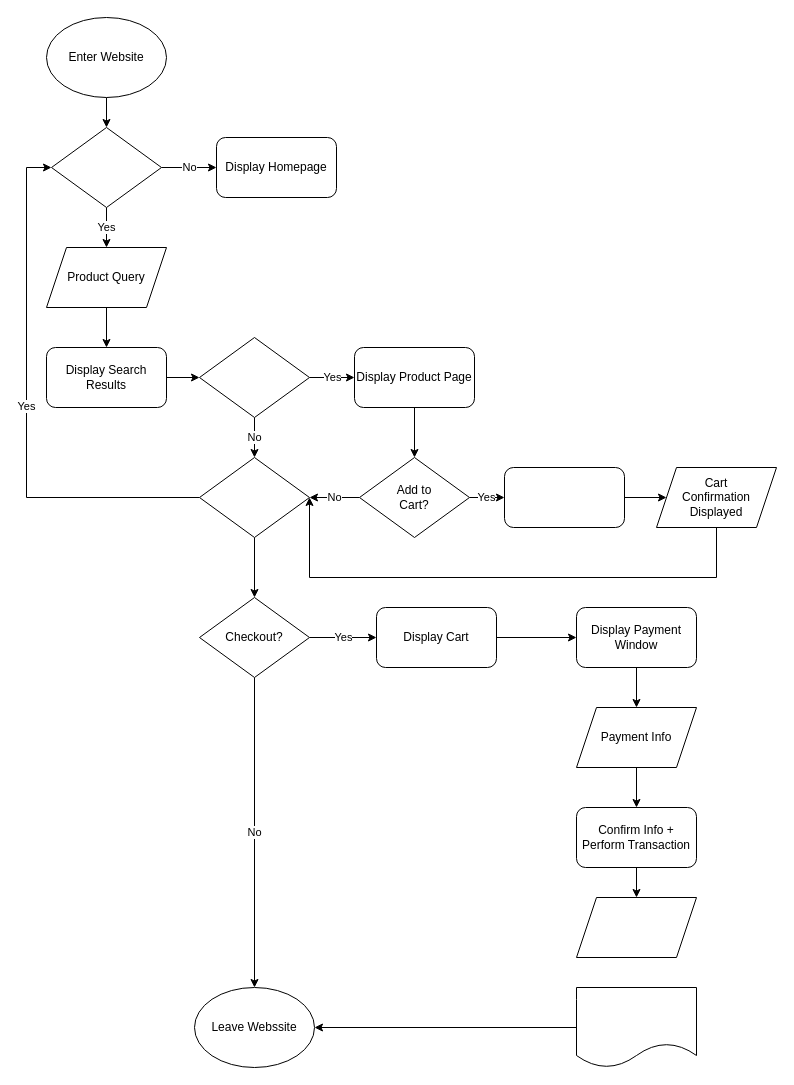
This 794x1085 diagram has some shape labels left out. The centre of each missing label's shape, as x and y in pixels:
"Add to Cart" goes at point 564,497.
"Continue Shopping?" goes at point 254,497.
"Email Order Confirmation to User" goes at point 636,1027.
"Order Confirmation Displayed" goes at point 636,927.
"Search Product?" goes at point 106,167.
"View Product" goes at point 254,377.
